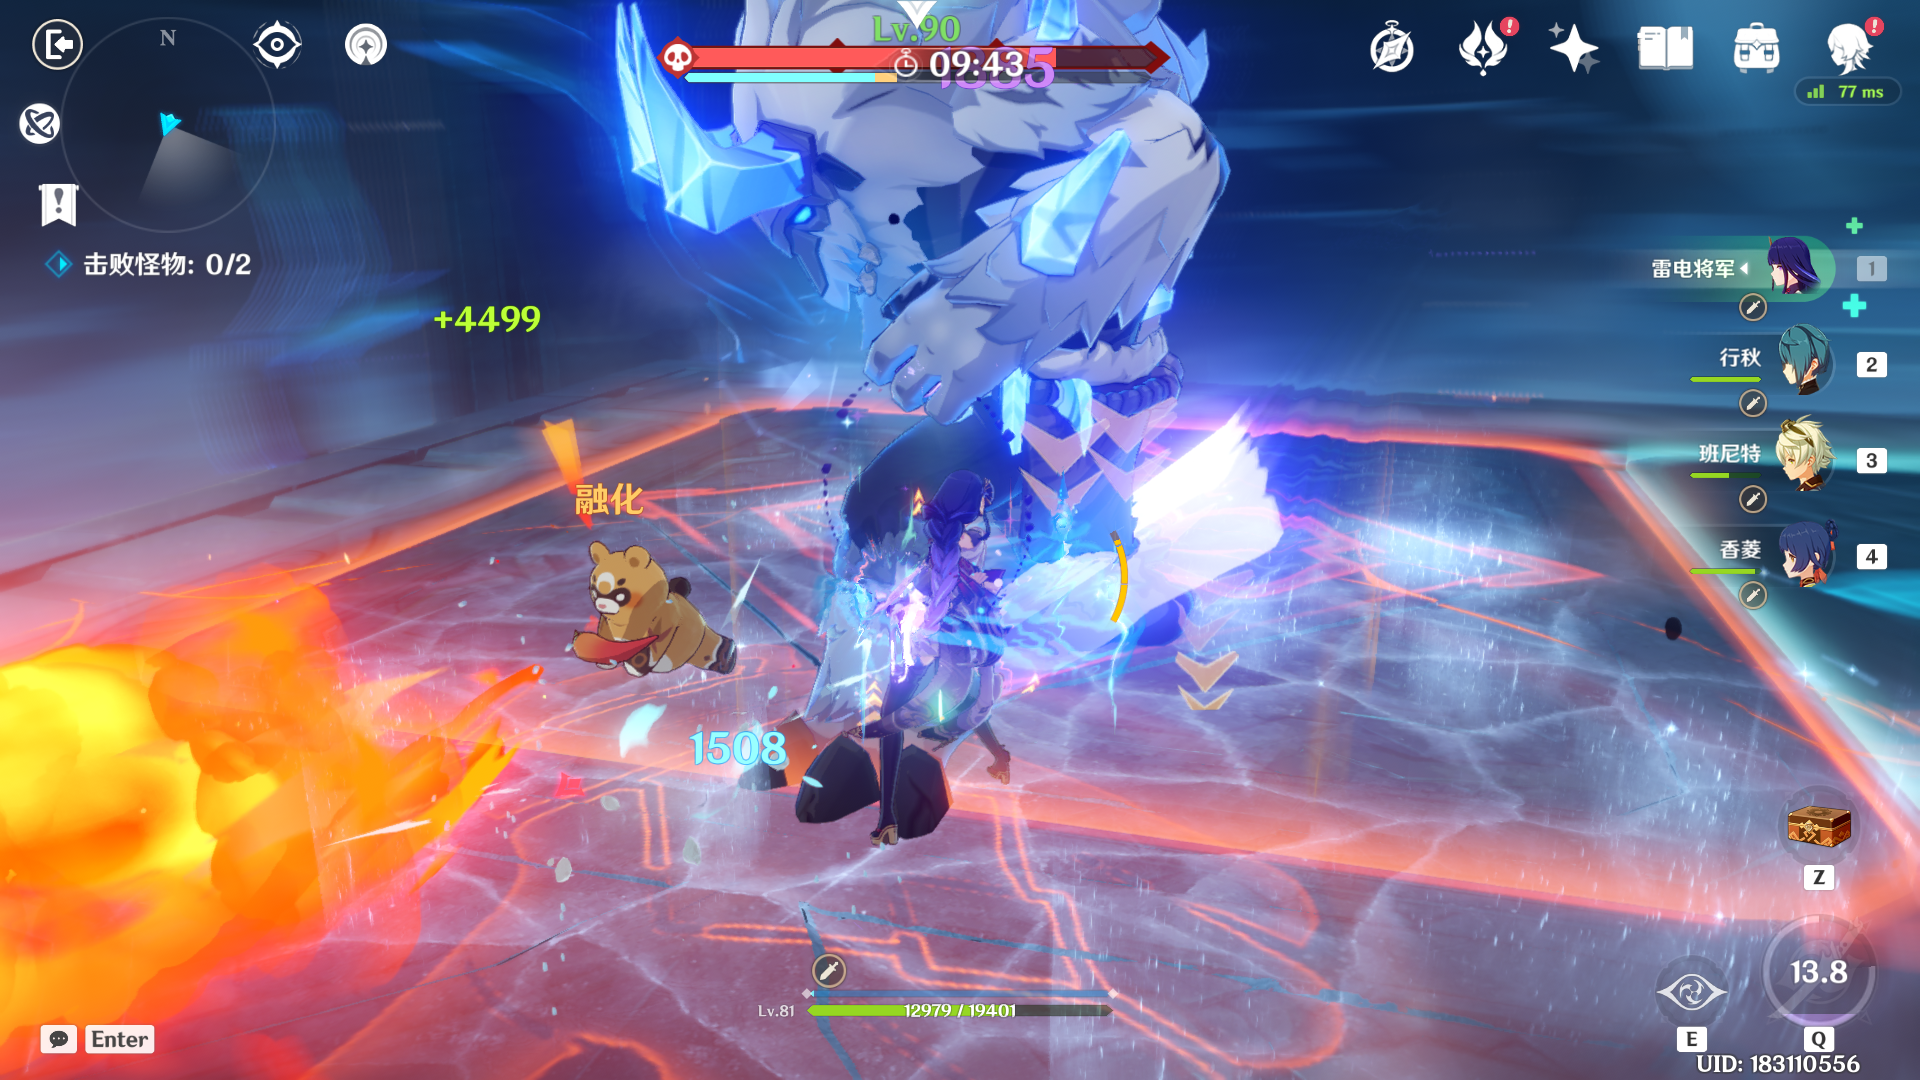bosshili: (553, 3, 1295, 746)
character: (837, 433, 1076, 877)
